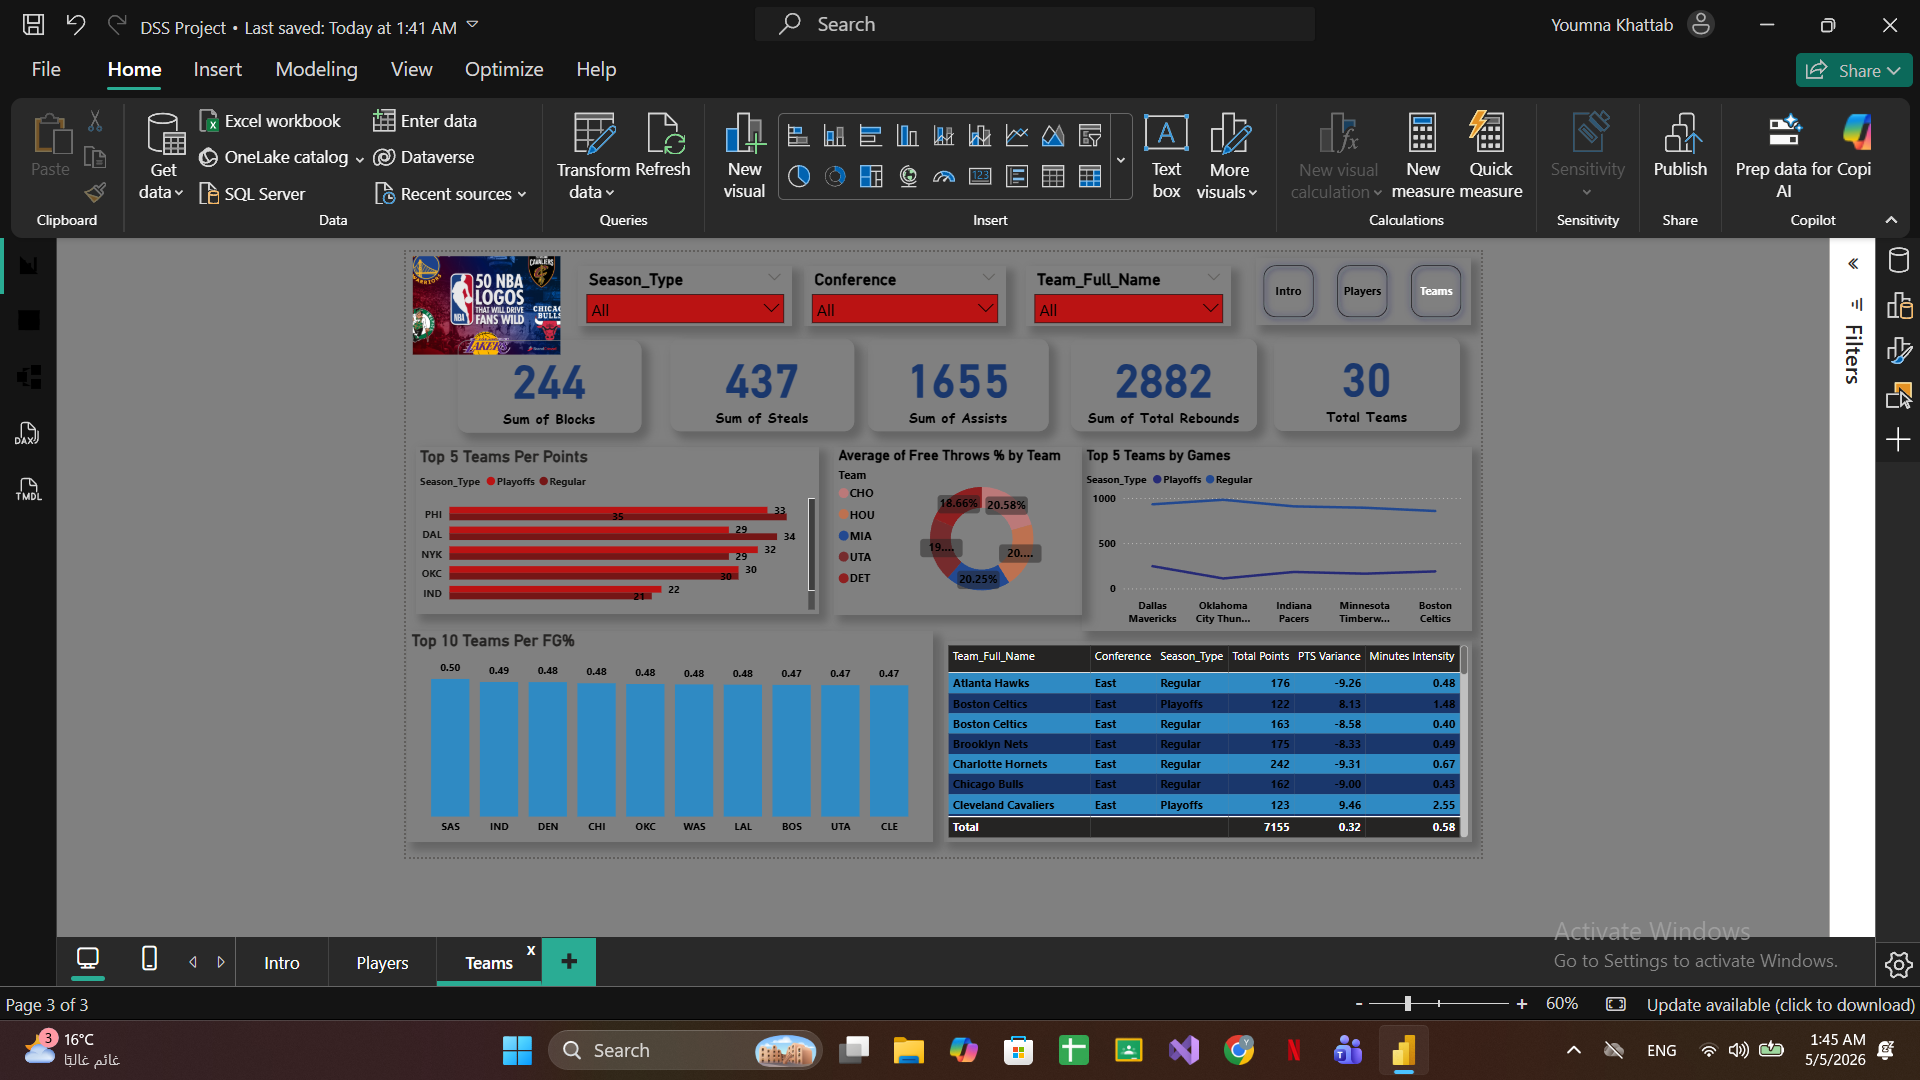

Layout of this report page (visuals, bound fields, positions):
{"tool":"powerbi","page":{"name":"Teams","canvas":[1280,720],"ordinal":2},"visuals":[{"type":"card","fields":{"Values":["DAX_Measures.Total Teams"]},"box":[1034,101.1,221.2,111.3],"z":0},{"type":"card","fields":{"Values":["Sum(Fact_Players_Stats.Total Rebounds)"]},"box":[790.9,102.5,221.2,109.8],"z":1000},{"type":"card","fields":{"Values":["Sum(Fact_Players_Stats.Assists)"]},"box":[549.2,104,215.3,109.8],"z":2000},{"type":"card","fields":{"Values":["Sum(Fact_Players_Stats.Steals)"]},"box":[314.9,104,218.2,109.8],"z":3000},{"type":"slicer","fields":{"Values":["Dim_Seasons.Season_Type"]},"box":[205,16.1,254.8,71.8],"z":4000},{"type":"slicer","fields":{"Values":["Dim_Teams.Conference"]},"box":[473.1,16.1,241.7,71.8],"z":5000},{"type":"clusteredBarChart","title":"Top 5 Teams Per Points","fields":{"Category":["Dim_Teams.Team"],"Y":["DAX_Measures.Total Points"],"Series":["Dim_Seasons.Season_Type"]},"box":[12.5,231.3,480.3,199.2],"z":6000},{"type":"image","box":[1.5,0,188.9,127.4],"z":7000},{"type":"pageNavigator","box":[1012.1,7.3,256.3,80.6],"z":8000},{"type":"clusteredColumnChart","title":"Top 10 Teams Per FG%","fields":{"Category":["Dim_Teams.Team"],"Y":["DAX_Measures.Avg FG%"]},"box":[1.5,451.1,625.4,250.5],"z":9000},{"type":"lineChart","title":"Top 5 Teams by Games","fields":{"Y":["Sum(Fact_Players_Stats.Games)"],"Category":["Dim_Teams.Team_Full_Name"],"Series":["Dim_Seasons.Season_Type"]},"box":[805.2,231.1,464,220.1],"z":10000},{"type":"slicer","fields":{"Values":["Dim_Teams.Team_Full_Name"]},"box":[738.2,16.1,244.6,71.8],"z":11000},{"type":"card","fields":{"Values":["Sum(Fact_Players_Stats.Blocks)"]},"box":[61.5,105.5,218.2,109.8],"z":12000},{"type":"donutChart","fields":{"Category":["Dim_Teams.Team"],"Y":["Avg(Fact_Players_Stats.Free Throws %)"]},"box":[509.9,231.1,295.3,199.9],"z":13000},{"type":"tableEx","fields":{"Values":["Dim_Teams.Team_Full_Name","Dim_Teams.Conference","Dim_Seasons.Season_Type","DAX_Measures.Total Points","DAX_Measures.PTS Variance","DAX_Measures.Minutes Intensity"]},"box":[640.1,464,629.1,238.4],"z":14000}]}

Visuals, with their boxes on the page's 1280x720 design canvas (x1, y1, x2, y2). These are canvas units, not pixel positions in the 1920x1080 screenshot, which may show the page scaled, cropped or inside an application window:
card - DAX_Measures.Total Teams: [1034,101,1255,212]
card - Sum(Fact_Players_Stats.Total Rebounds): [791,102,1012,212]
card - Sum(Fact_Players_Stats.Assists): [549,104,764,214]
card - Sum(Fact_Players_Stats.Steals): [315,104,533,214]
slicer - Dim_Seasons.Season_Type: [205,16,460,88]
slicer - Dim_Teams.Conference: [473,16,715,88]
"Top 5 Teams Per Points" clusteredBarChart: [12,231,493,430]
image: [2,0,190,127]
pageNavigator: [1012,7,1268,88]
"Top 10 Teams Per FG%" clusteredColumnChart: [2,451,627,702]
"Top 5 Teams by Games" lineChart: [805,231,1269,451]
slicer - Dim_Teams.Team_Full_Name: [738,16,983,88]
card - Sum(Fact_Players_Stats.Blocks): [62,106,280,215]
donutChart - Dim_Teams.Team x Avg(Fact_Players_Stats.Free Throws %): [510,231,805,431]
tableEx - Dim_Teams.Team_Full_Name x Dim_Teams.Conference: [640,464,1269,702]
